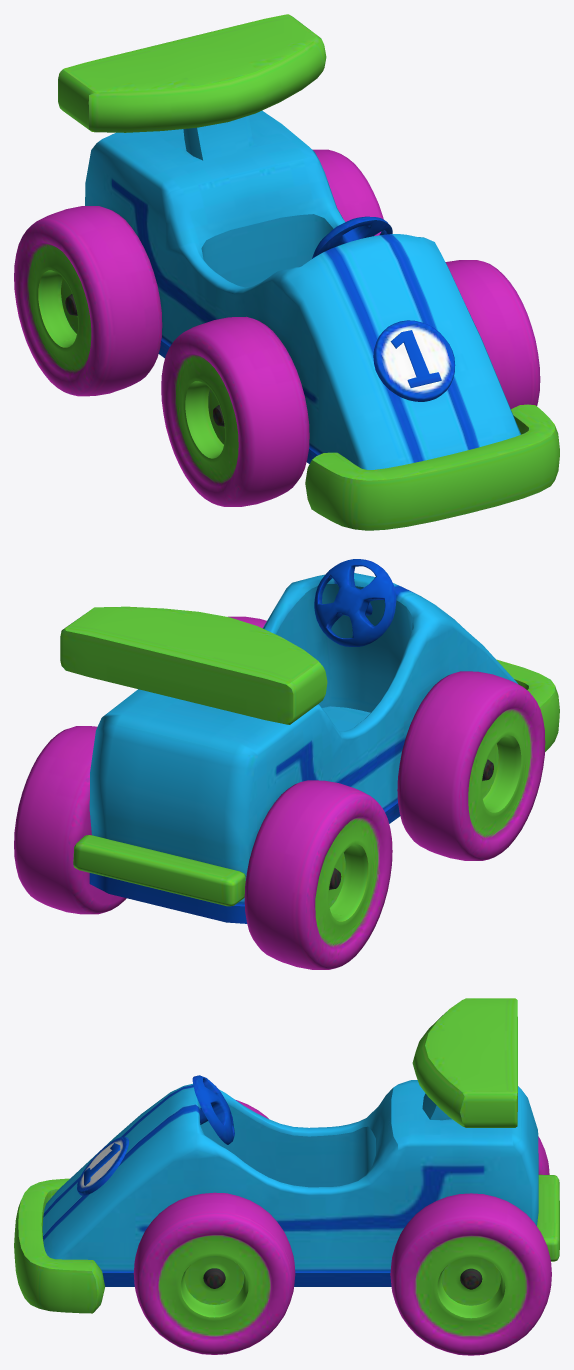
File: mini_race_car.glb
3 renders of one model, top to bottom at view 1: azimuth 30°, elevation 25°; view 2: azimuth 150°, elevation 25°; view 3: azimuth 270°, elevation 25°, orthographic. The views are drawn at different scales.
Visible parts, largest first — view 1: Mini_Race_Car.1; view 2: Mini_Race_Car.1; view 3: Mini_Race_Car.1.
Boxes of the visible parts, x1,y1,x2,y2 form: Mini_Race_Car.1: [14, 14, 559, 530]; Mini_Race_Car.1: [14, 559, 559, 969]; Mini_Race_Car.1: [14, 998, 559, 1355].
Bounding box in the file's own units: 0.109 × 0.1041 × 0.2013.
Materials: 1 (1 with a texture image).
